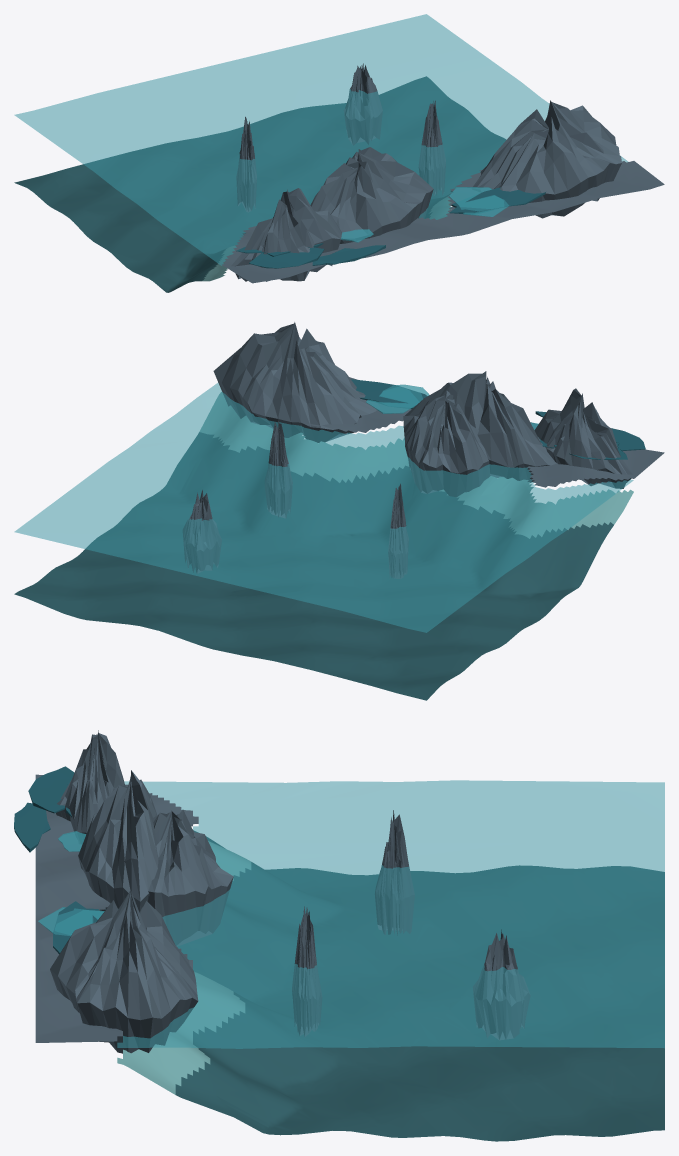
File: water_tile_14.glb
3 views of the same model, one above another, from view 1: azimuth 30°, elevation 25°; view 2: azimuth 150°, elevation 25°; view 3: azimuth 270°, elevation 25° (orthographic). The views are drawn at different scales.
Visible parts, largest first — view 1: glacial water surface 14, submerged mineral riverbed.014, angular fractured shoreline ledge.125, single continuous dark slate shoreline.014, angular fractured shoreline ledge.124, angular fractured shoreline ledge.127, underwater worn boulder.047, underwater worn boulder.046, erosion water finger above land.158, underwater worn boulder.048, isolated flooded rock depression.062, erosion water finger above land.159 (+2 smaller); view 2: submerged mineral riverbed.014, glacial water surface 14, visible shallow mineral shelves.014, angular fractured shoreline ledge.125, angular fractured shoreline ledge.126, angular fractured shoreline ledge.124, angular fractured shoreline ledge.127, single continuous dark slate shoreline.014, underwater worn boulder.047, underwater worn boulder.046, underwater worn boulder.048, erosion water finger above land.158 (+1 smaller); view 3: glacial water surface 14, submerged mineral riverbed.014, angular fractured shoreline ledge.125, single continuous dark slate shoreline.014, angular fractured shoreline ledge.126, angular fractured shoreline ledge.124, visible shallow mineral shelves.014, underwater worn boulder.047, angular fractured shoreline ledge.127, underwater worn boulder.048, underwater worn boulder.046, erosion water finger above land.159 (+3 smaller).
Part boxes in pixels (bbox=[...]): glacial water surface 14: bbox=[14, 14, 628, 265]; submerged mineral riverbed.014: bbox=[14, 76, 506, 292]; angular fractured shoreline ledge.125: bbox=[472, 100, 621, 218]; single continuous dark slate shoreline.014: bbox=[222, 161, 664, 283]; angular fractured shoreline ledge.124: bbox=[310, 147, 433, 243]; angular fractured shoreline ledge.127: bbox=[231, 188, 341, 281]; underwater worn boulder.047: bbox=[343, 63, 382, 145]; underwater worn boulder.046: bbox=[418, 100, 445, 195]; erosion water finger above land.158: bbox=[449, 187, 545, 214]; underwater worn boulder.048: bbox=[236, 116, 256, 212]; isolated flooded rock depression.062: bbox=[449, 187, 508, 216]; erosion water finger above land.159: bbox=[249, 247, 324, 268]; submerged mineral riverbed.014: bbox=[14, 432, 613, 700]; glacial water surface 14: bbox=[14, 383, 633, 632]; visible shallow mineral shelves.014: bbox=[199, 392, 633, 538]; angular fractured shoreline ledge.125: bbox=[213, 322, 379, 442]; angular fractured shoreline ledge.126: bbox=[403, 391, 490, 497]; angular fractured shoreline ledge.124: bbox=[405, 371, 556, 482]; angular fractured shoreline ledge.127: bbox=[534, 388, 632, 488]; single continuous dark slate shoreline.014: bbox=[306, 377, 664, 487]; underwater worn boulder.047: bbox=[182, 490, 221, 573]; underwater worn boulder.046: bbox=[264, 417, 292, 518]; underwater worn boulder.048: bbox=[388, 483, 408, 578]; erosion water finger above land.158: bbox=[351, 379, 427, 409]; glacial water surface 14: bbox=[105, 780, 664, 1048]; submerged mineral riverbed.014: bbox=[175, 831, 664, 1141]; angular fractured shoreline ledge.125: bbox=[50, 890, 198, 1053]; single continuous dark slate shoreline.014: bbox=[35, 774, 198, 1042]; angular fractured shoreline ledge.126: bbox=[147, 809, 233, 946]; angular fractured shoreline ledge.124: bbox=[78, 770, 158, 912]; visible shallow mineral shelves.014: bbox=[117, 841, 251, 1094]; underwater worn boulder.047: bbox=[473, 929, 530, 1040]; angular fractured shoreline ledge.127: bbox=[56, 730, 125, 843]; underwater worn boulder.048: bbox=[375, 810, 414, 935]; underwater worn boulder.046: bbox=[292, 906, 322, 1036]; erosion water finger above land.159: bbox=[28, 766, 74, 813].
Size of the model in its own units: 1 by 0.3537 by 1.03.
